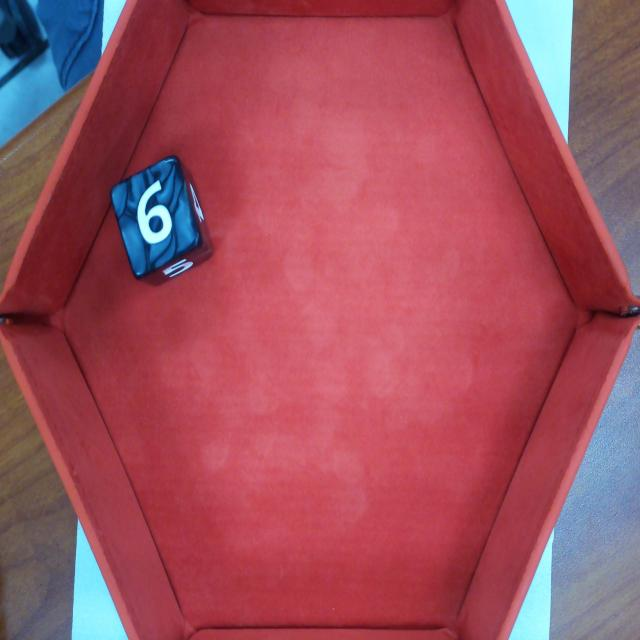dice: (113, 156, 196, 275)
